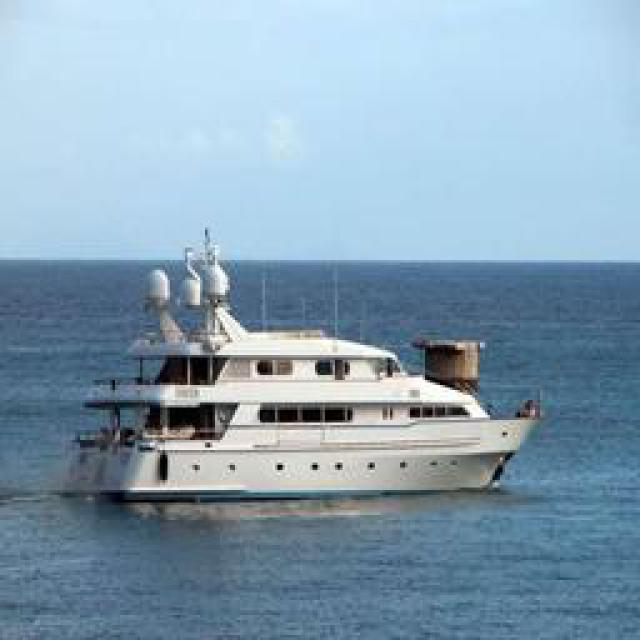Ship: (53, 231, 548, 504)
